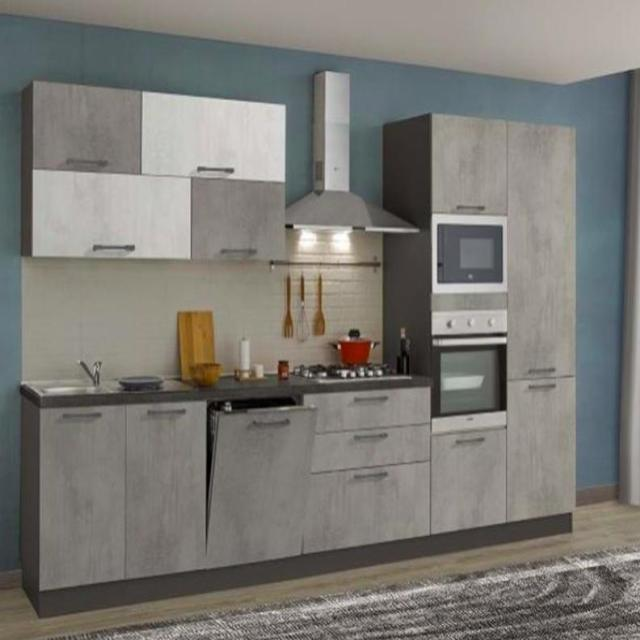dishwasher: (204, 398, 304, 558)
